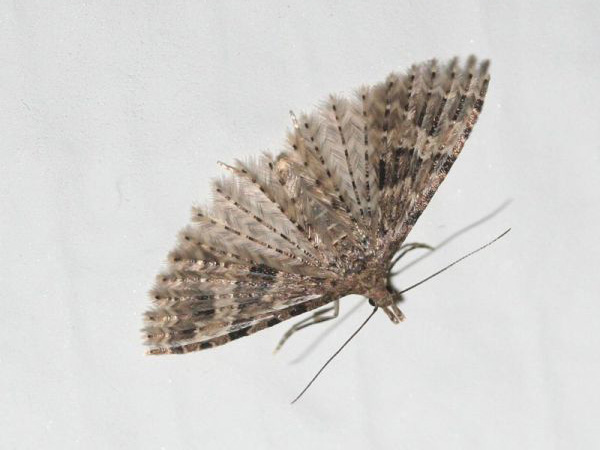Alucitidae: (142, 51, 519, 404)
moth: (144, 53, 521, 406)
